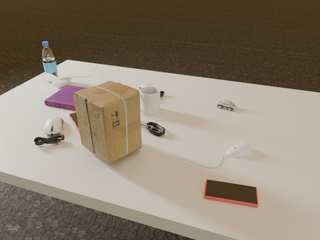book: (45, 85, 87, 110)
bottle: (42, 42, 59, 83)
box: (73, 81, 141, 164)
cup: (140, 86, 160, 115)
mouse: (44, 117, 64, 137), (227, 143, 252, 157), (52, 77, 71, 88)
phone: (204, 180, 258, 207), (69, 113, 80, 133)
toy_car: (216, 100, 237, 111)
